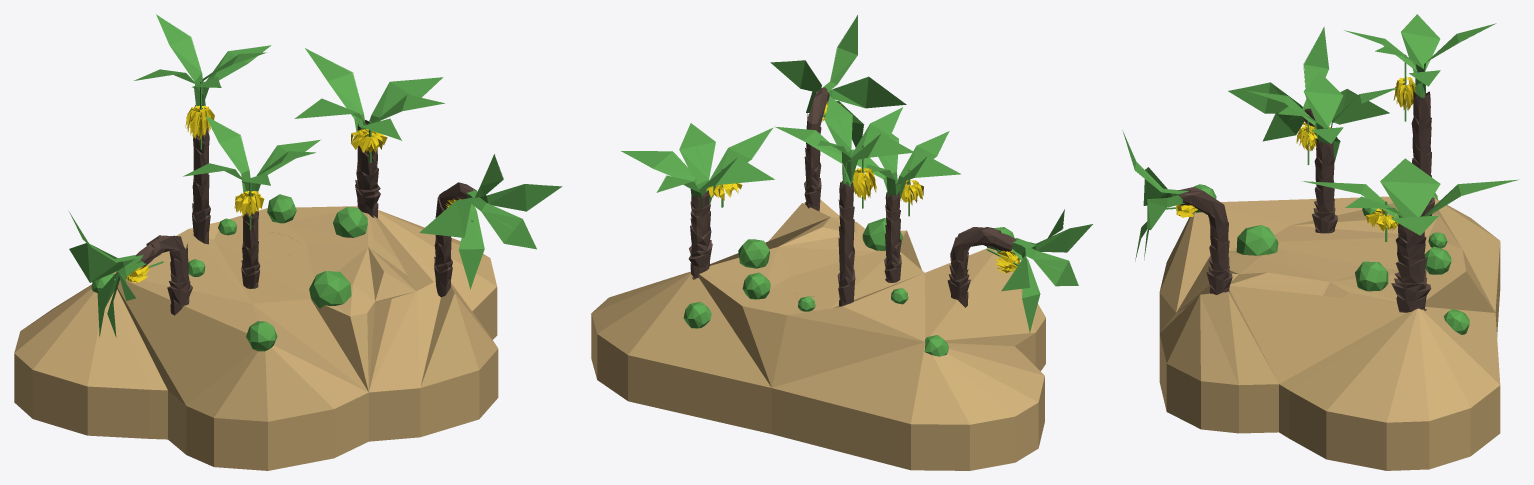
File: inselVR2.fbx
3 renders of one model, left to right at view 1: azimuth 30°, elevation 25°; view 2: azimuth 150°, elevation 25°; view 3: azimuth 270°, elevation 25°, orthographic. The views are drawn at different scales.
Visible parts, largest first — view 1: Extrudieren_1_11, Stamm_8, Stamm_10, Stamm_3, Extrudieren_3_4, Stamm_5, Extrudieren, Extrudieren_2, Stamm_12, Busch_3, Extrudieren_4_7, Extrudieren_2_5 (+16 smaller); view 2: Extrudieren_1_11, Stamm_8, Stamm_10, Stamm_5, Stamm_3, Extrudieren_4_5, Extrudieren_4, Stamm_12, Extrudieren_2_5, Extrudieren_8, Extrudieren_6, Extrudieren_3 (+17 smaller); view 3: Extrudieren_1_11, Stamm_5, Stamm_3, Extrudieren_4_4, Stamm_12, Stamm_10, Extrudieren_4_9, Extrudieren_4_11, Extrudieren_2_7, Busch_3, Extrudieren_3_7, Extrudieren_4_7 (+15 smaller).
Boxes of the visible parts, <box> form: Extrudieren_1_11: <box>14,206,498,470</box>; Stamm_8: <box>136,235,192,315</box>; Stamm_10: <box>192,105,210,244</box>; Stamm_3: <box>434,182,476,297</box>; Extrudieren_3_4: <box>305,48,364,131</box>; Stamm_5: <box>355,120,380,218</box>; Extrudieren: <box>471,196,536,249</box>; Extrudieren_2: <box>480,184,562,211</box>; Stamm_12: <box>241,211,260,288</box>; Busch_3: <box>309,271,351,308</box>; Extrudieren_4_7: <box>69,243,143,282</box>; Extrudieren_2_5: <box>368,77,443,124</box>; Extrudieren_1_11: <box>591,199,1045,470</box>; Stamm_8: <box>947,227,1016,307</box>; Stamm_10: <box>837,180,855,306</box>; Stamm_5: <box>688,190,712,279</box>; Stamm_3: <box>804,87,829,211</box>; Extrudieren_4_5: <box>679,123,715,212</box>; Extrudieren_4: <box>828,76,906,108</box>; Stamm_12: <box>884,191,901,282</box>; Extrudieren_2_5: <box>621,151,696,185</box>; Extrudieren_8: <box>824,96,853,182</box>; Extrudieren_6: <box>1022,246,1078,286</box>; Extrudieren_3: <box>816,15,857,92</box>; Extrudieren_1_11: <box>1159,196,1500,470</box>; Stamm_5: <box>1391,223,1431,312</box>; Stamm_3: <box>1178,187,1232,294</box>; Extrudieren_4_4: <box>1380,158,1440,217</box>; Stamm_12: <box>1312,138,1337,233</box>; Stamm_10: <box>1411,91,1434,216</box>; Extrudieren_4_9: <box>1401,14,1440,97</box>; Extrudieren_4_11: <box>1303,72,1343,128</box>; Extrudieren_2_7: <box>1228,82,1305,117</box>; Busch_3: <box>1236,225,1278,255</box>; Extrudieren_3_7: <box>1302,26,1329,110</box>; Extrudieren_4_7: <box>1331,89,1389,124</box>.
Size of the model in its own units: 5282 by 3530 by 4048.
Materials: 4 (3 with a texture image).
